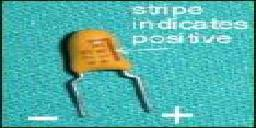Electrolytic-Capacitor: (63, 28, 154, 121)
